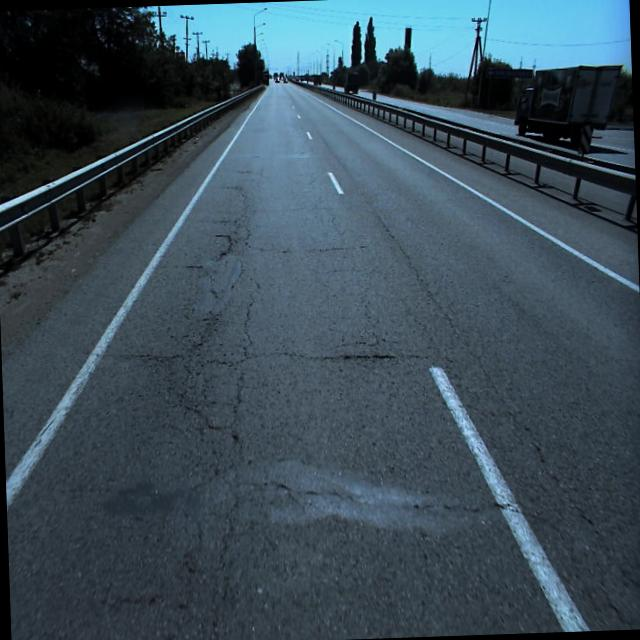road: (1, 78, 640, 640)
